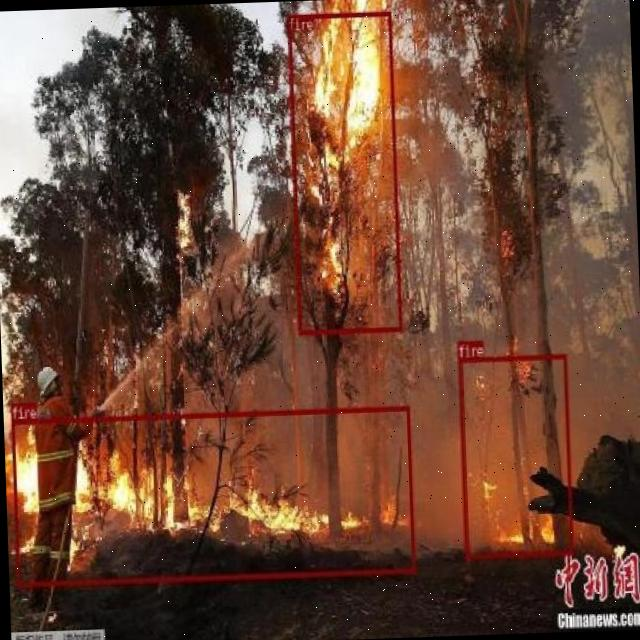fire: (10, 405, 415, 587), (286, 11, 402, 333), (458, 352, 574, 558)
